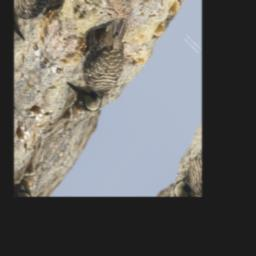Woodpecker: (54, 0, 148, 120)
